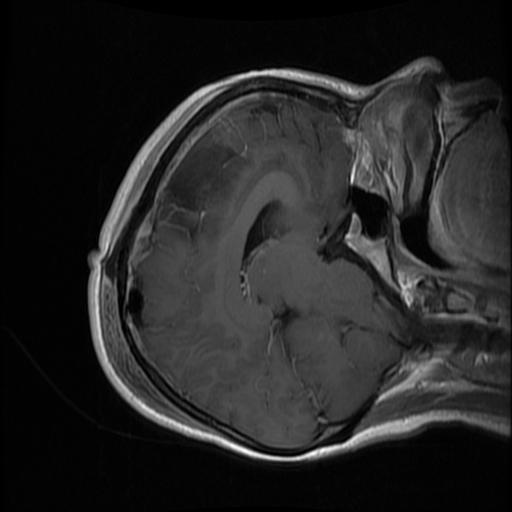glioma: (155, 127, 250, 248)
